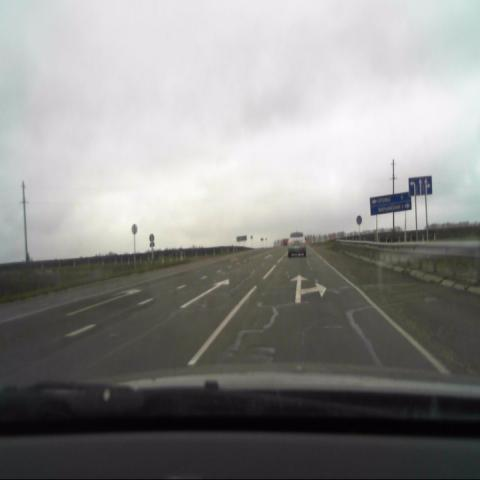5_15_1: (408, 173, 432, 197)
